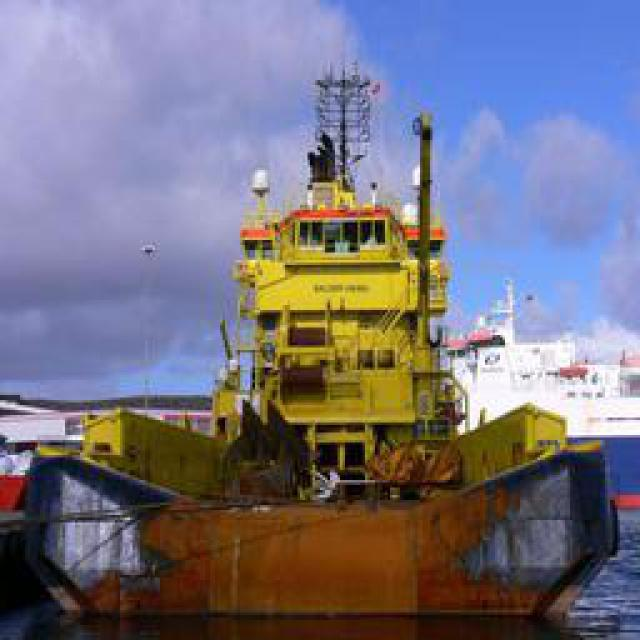Ship: (113, 121, 621, 561)
